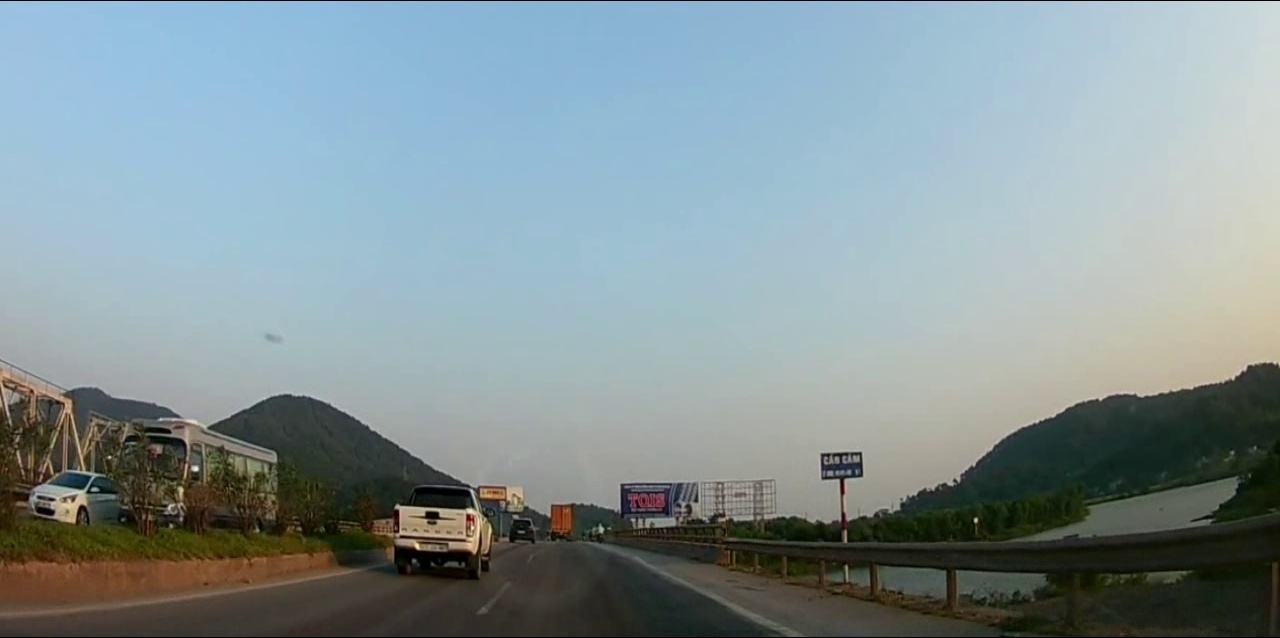Bien khac: (821, 449, 865, 482)
